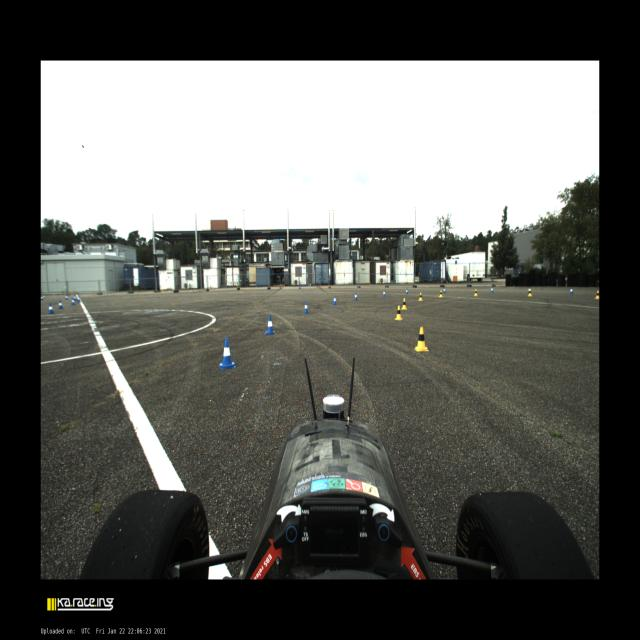blue_cone: (219, 338, 236, 370), (264, 316, 276, 334), (48, 303, 55, 314), (303, 302, 309, 314), (58, 300, 64, 310), (333, 296, 337, 305), (354, 292, 358, 301), (72, 298, 76, 306), (570, 287, 574, 295), (77, 295, 81, 302), (65, 294, 69, 300), (383, 290, 386, 296), (491, 286, 494, 292), (527, 287, 530, 293), (41, 295, 44, 300), (443, 288, 446, 293), (74, 294, 76, 301), (406, 288, 408, 294)
yellow_cone: (414, 326, 429, 352), (395, 306, 403, 320), (402, 298, 408, 310), (418, 292, 423, 301), (595, 290, 599, 299), (528, 288, 532, 296), (474, 288, 478, 296), (439, 290, 443, 298)
